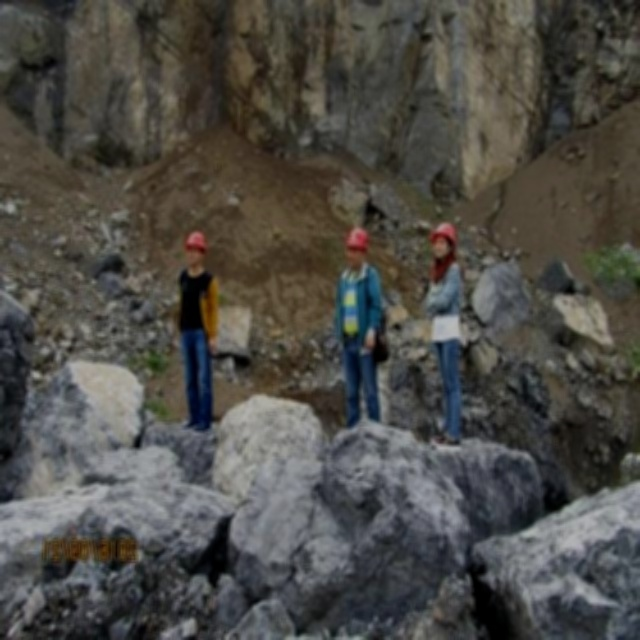Con_Casco: (180, 231, 208, 269), (431, 222, 454, 259)
